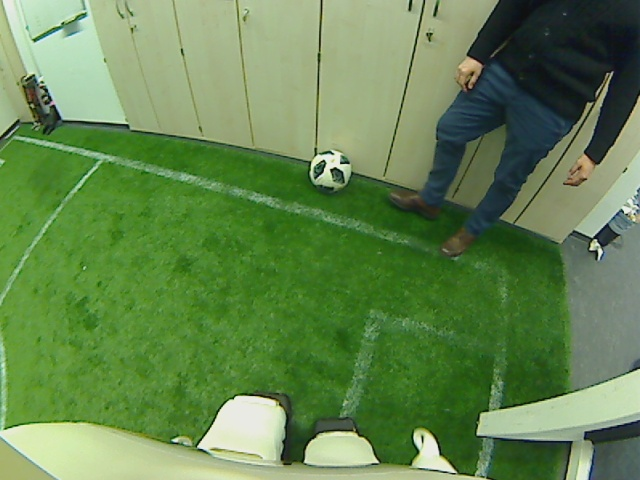ball: (307, 147, 353, 191)
